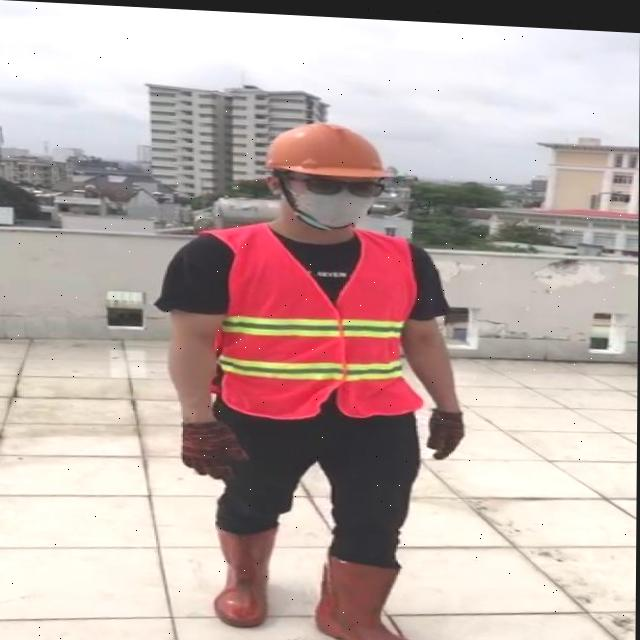Gloves: (180, 416, 250, 482), (427, 403, 465, 456)
Helmet: (263, 116, 395, 179)
Safety-Boot: (315, 546, 433, 640), (213, 516, 279, 625)
Safety-Vest: (197, 215, 424, 422)
